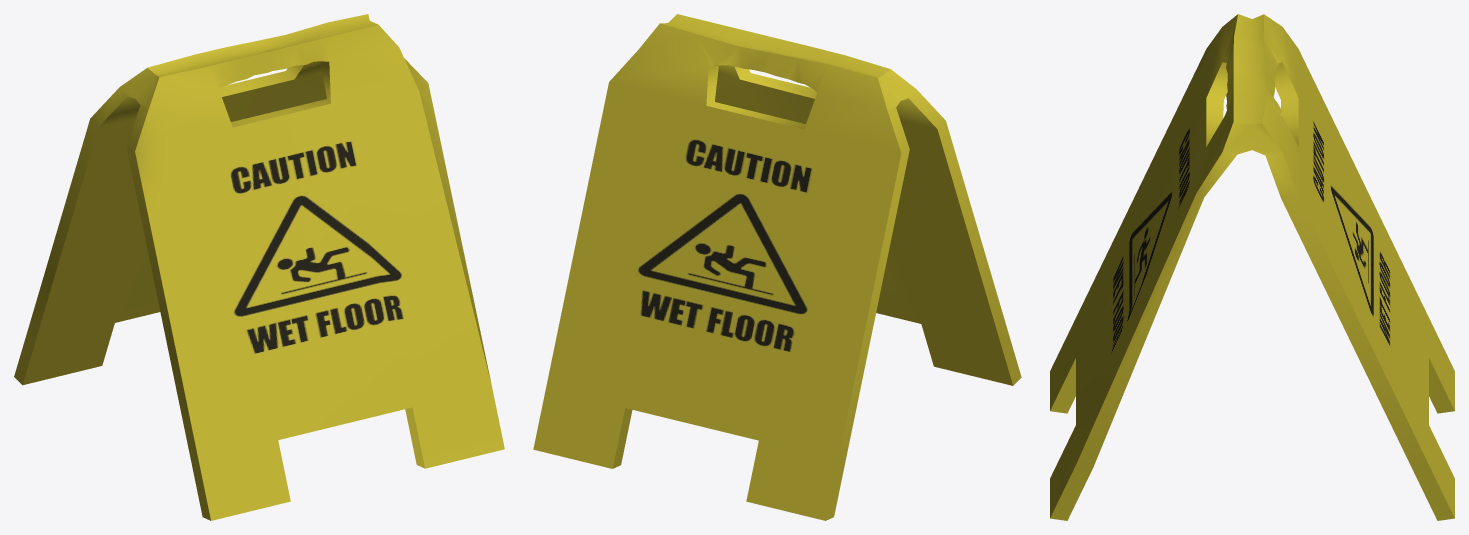
Rendered from wetfloors.fbx.
3 renders of one model, left to right at view 1: azimuth 30°, elevation 25°; view 2: azimuth 150°, elevation 25°; view 3: azimuth 270°, elevation 25°, orthographic. The views are drawn at different scales.
Parts seen in each view (by area): view 1: WetFloorSign; view 2: WetFloorSign; view 3: WetFloorSign.
Boxes of the visible parts, x1,y1,x2,y2 form: WetFloorSign: (14, 14, 504, 520); WetFloorSign: (533, 14, 1021, 520); WetFloorSign: (1050, 14, 1454, 520).
Size of the model in its own units: 30.01 by 36.23 by 34.86.
